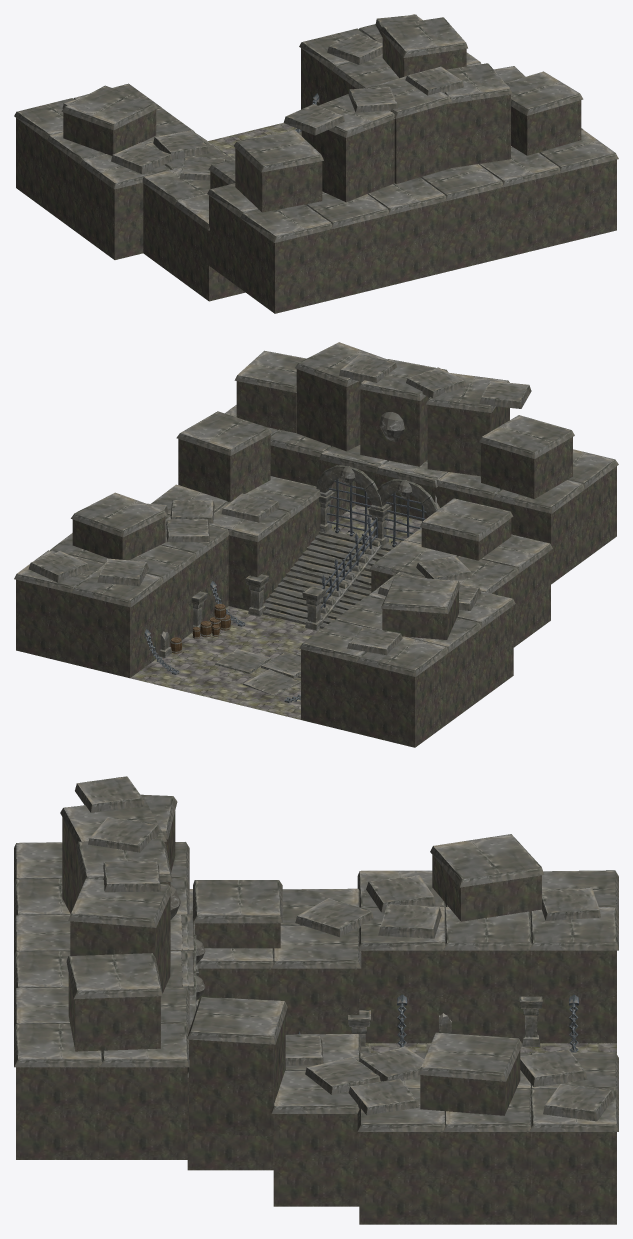
Rendered from loop_end_entrance.obj.
3 renders of one model, top to bottom at view 1: azimuth 30°, elevation 25°; view 2: azimuth 150°, elevation 25°; view 3: azimuth 270°, elevation 25°, orthographic. The views are drawn at different scales.
Parts seen in each view (by area): view 1: loop_end_entrance; view 2: loop_end_entrance; view 3: loop_end_entrance.
Part boxes in pixels (bbox=[...]): loop_end_entrance: bbox=[14, 14, 618, 313]; loop_end_entrance: bbox=[14, 342, 618, 747]; loop_end_entrance: bbox=[14, 776, 618, 1224].
Bounding box in the file's own units: 70.45 × 32.77 × 70.45.
